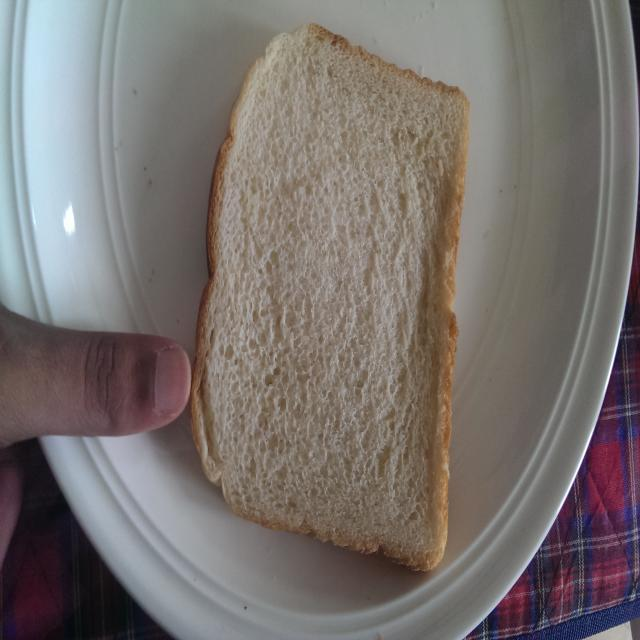Bread: (189, 15, 476, 582)
Finger: (67, 322, 195, 447)
